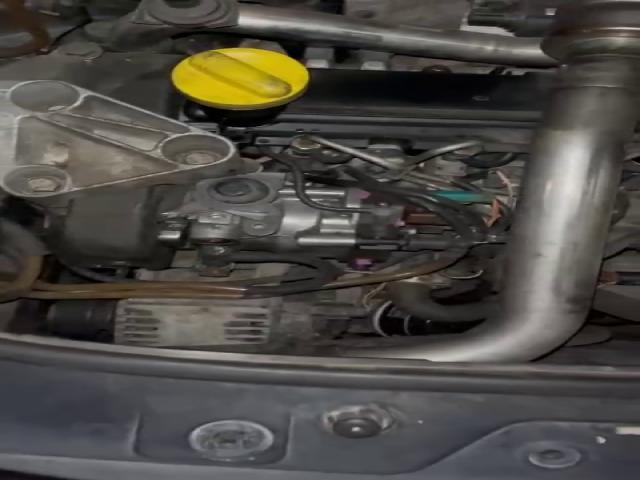alternator: (115, 297, 283, 346)
high_pressure_pump: (188, 188, 406, 270), (309, 188, 371, 206)
